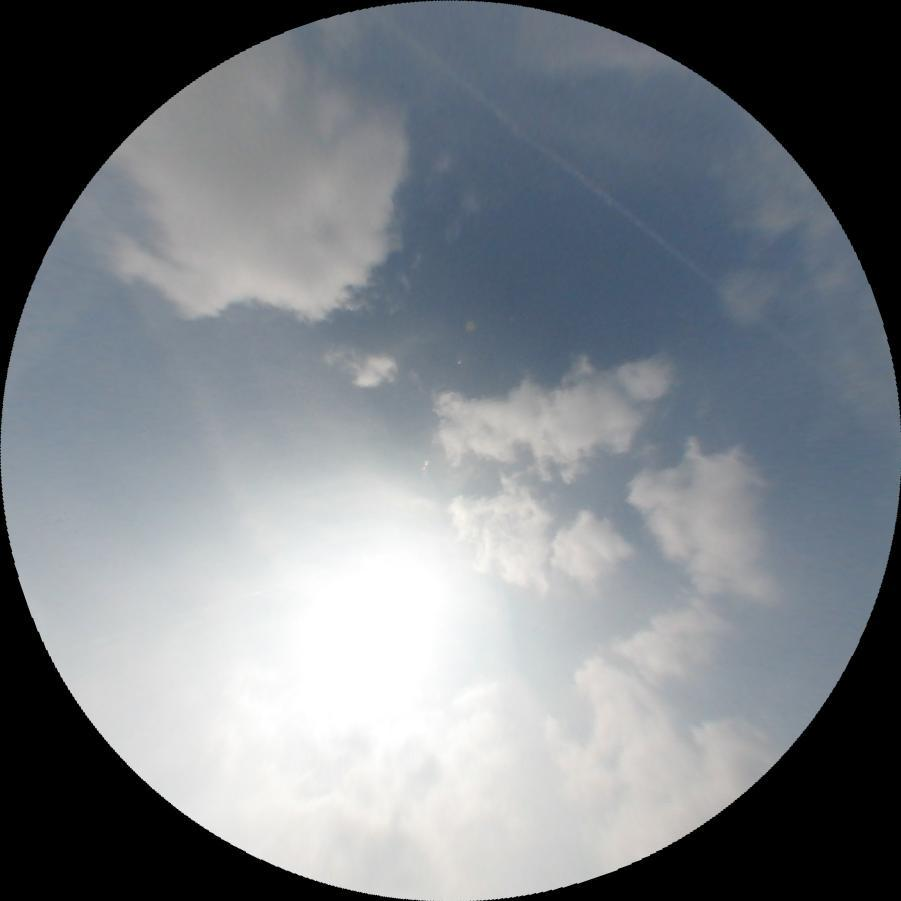contrail young: (370, 3, 827, 375)
sun: (278, 528, 479, 707)
